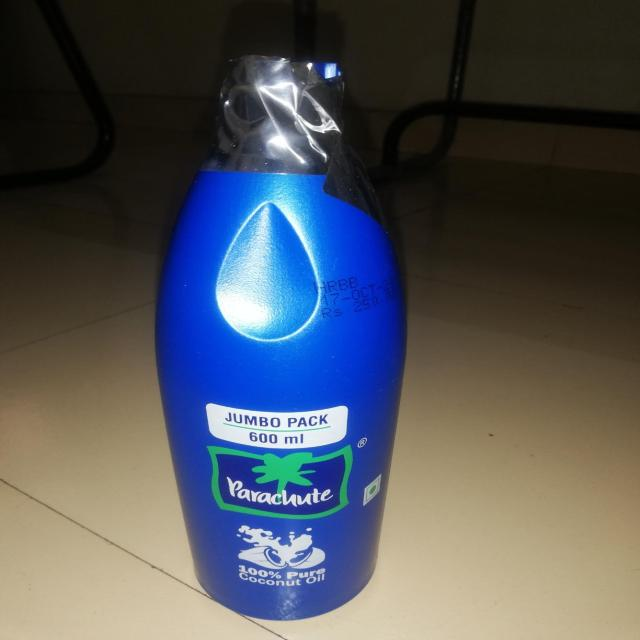parachute_oil: (156, 41, 407, 619)
